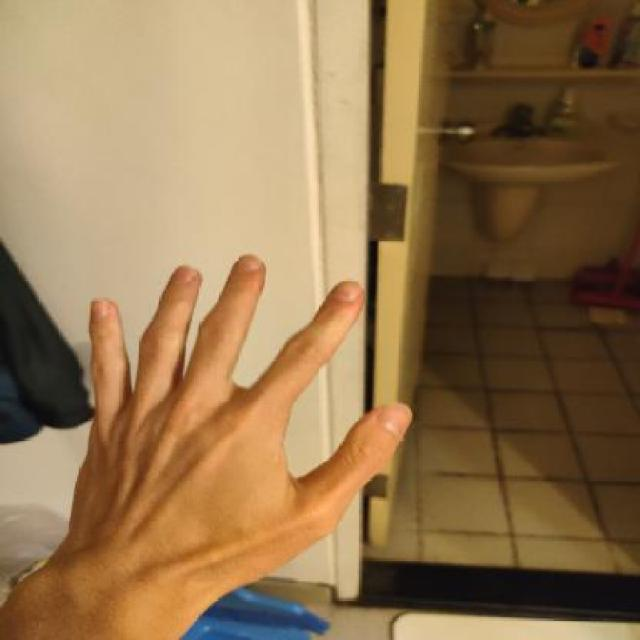no_glove: (38, 235, 417, 610)
